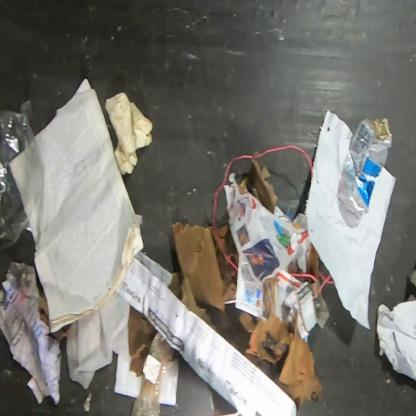metal: (336, 117, 393, 229)
rigid_plastic: (129, 331, 172, 415)
soft_plastic: (0, 99, 46, 253)
